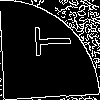T: (25, 25, 72, 58)
